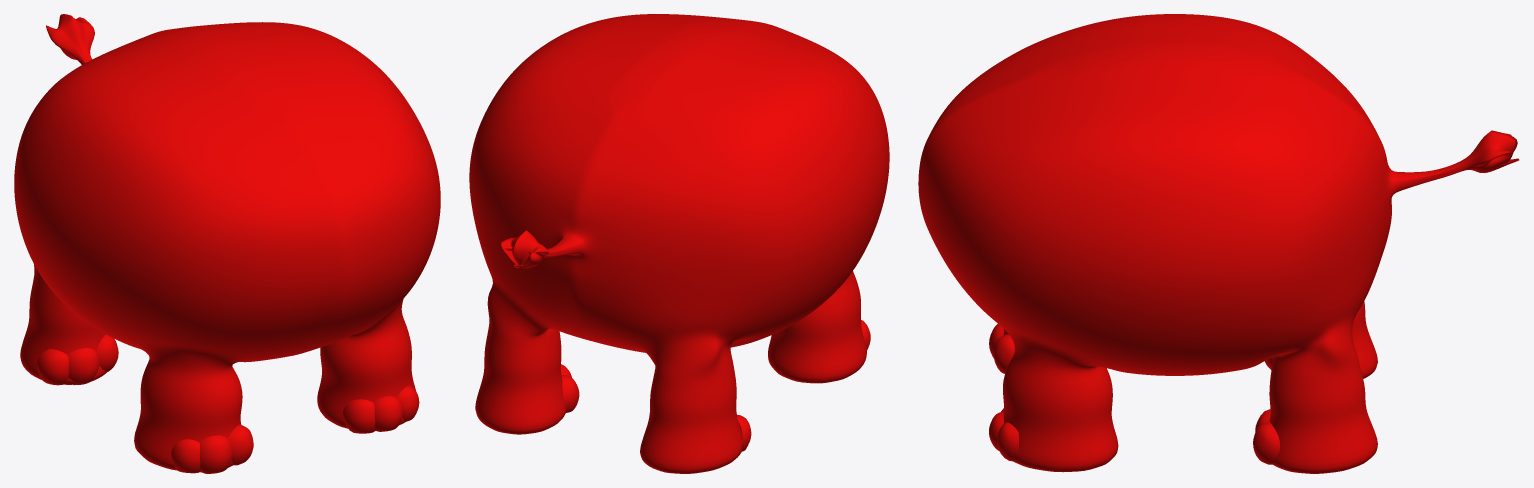
The model's file is zone4-rhino-red.gltf.
3 renders of one model, left to right at view 1: azimuth 30°, elevation 25°; view 2: azimuth 150°, elevation 25°; view 3: azimuth 270°, elevation 25°, orthographic. The views are drawn at different scales.
Parts seen in each view (by area): view 1: Coprs-Pates; view 2: Coprs-Pates; view 3: Coprs-Pates.
Part boxes in pixels (bbox=[...]): Coprs-Pates: bbox=[14, 14, 440, 473]; Coprs-Pates: bbox=[469, 14, 889, 473]; Coprs-Pates: bbox=[918, 14, 1519, 473].
Size of the model in its own units: 2.61 by 2.43 by 3.66.
